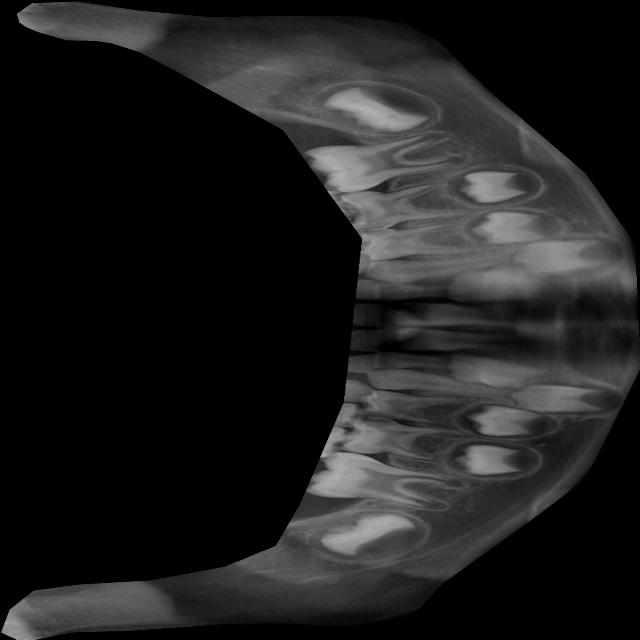mandibula: (1, 0, 640, 640)
